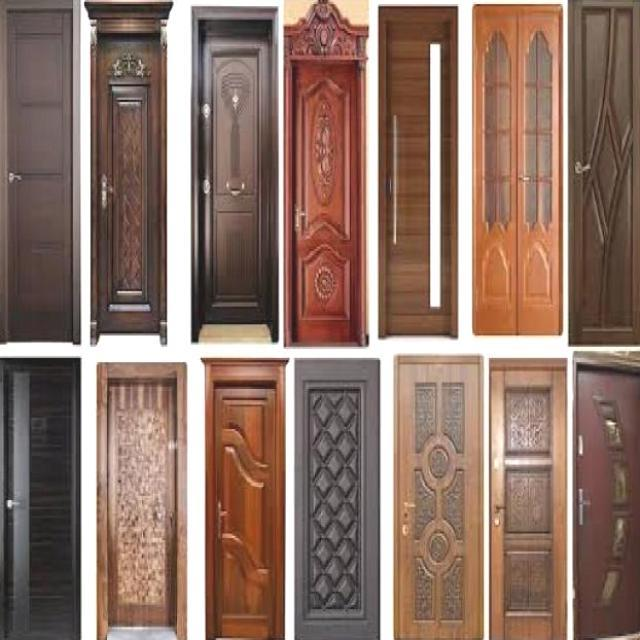Door: (1, 2, 85, 348), (569, 0, 640, 343), (382, 17, 453, 335), (214, 381, 276, 637)
